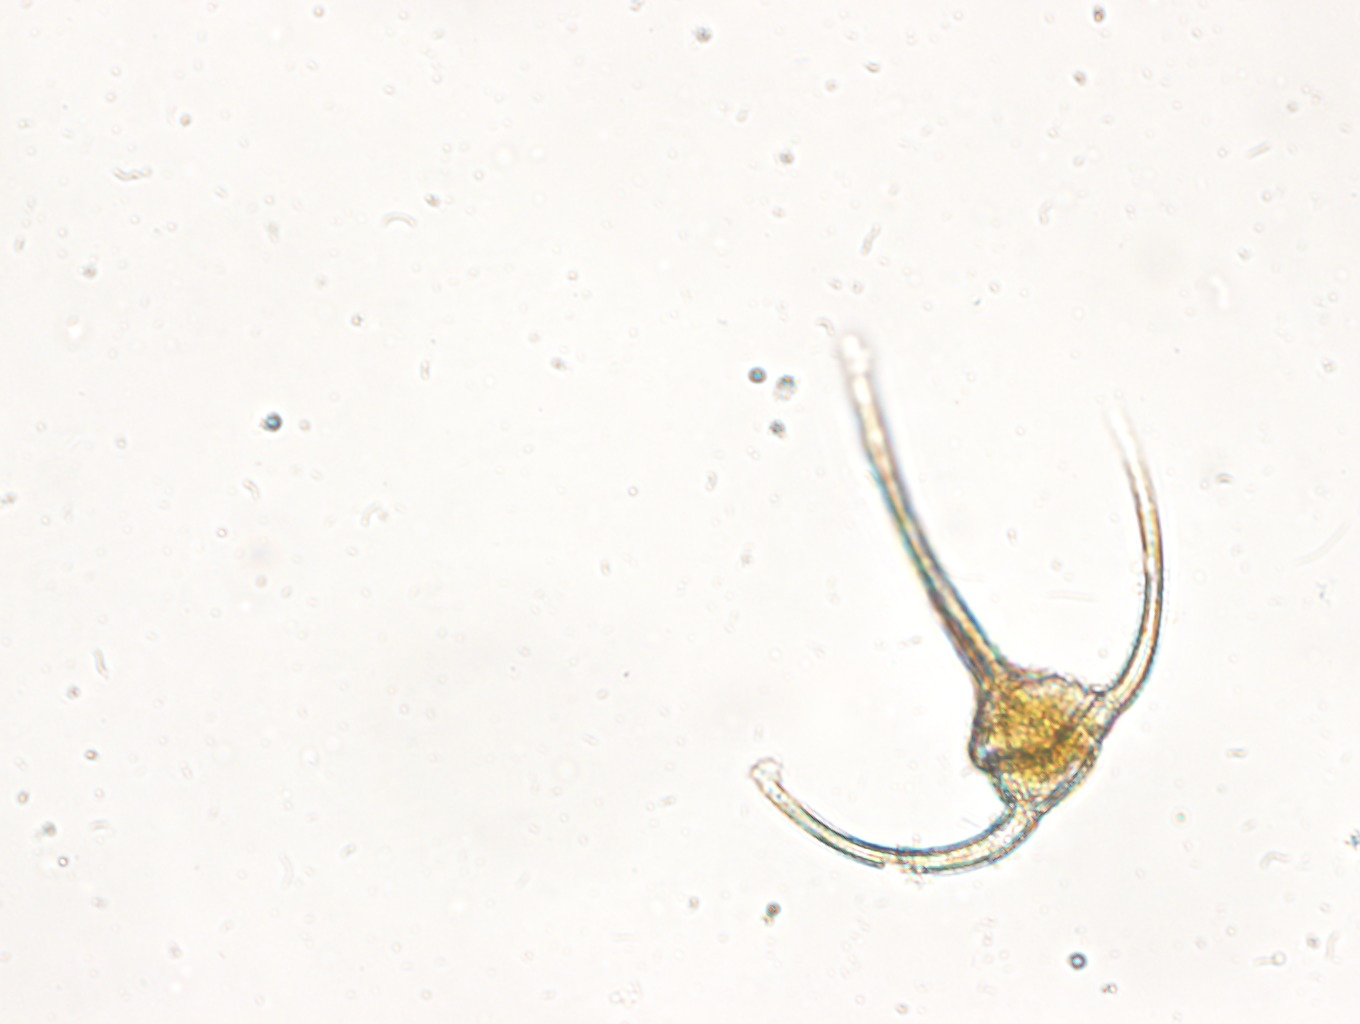ceratium trichoceros: (734, 327, 1169, 880)
